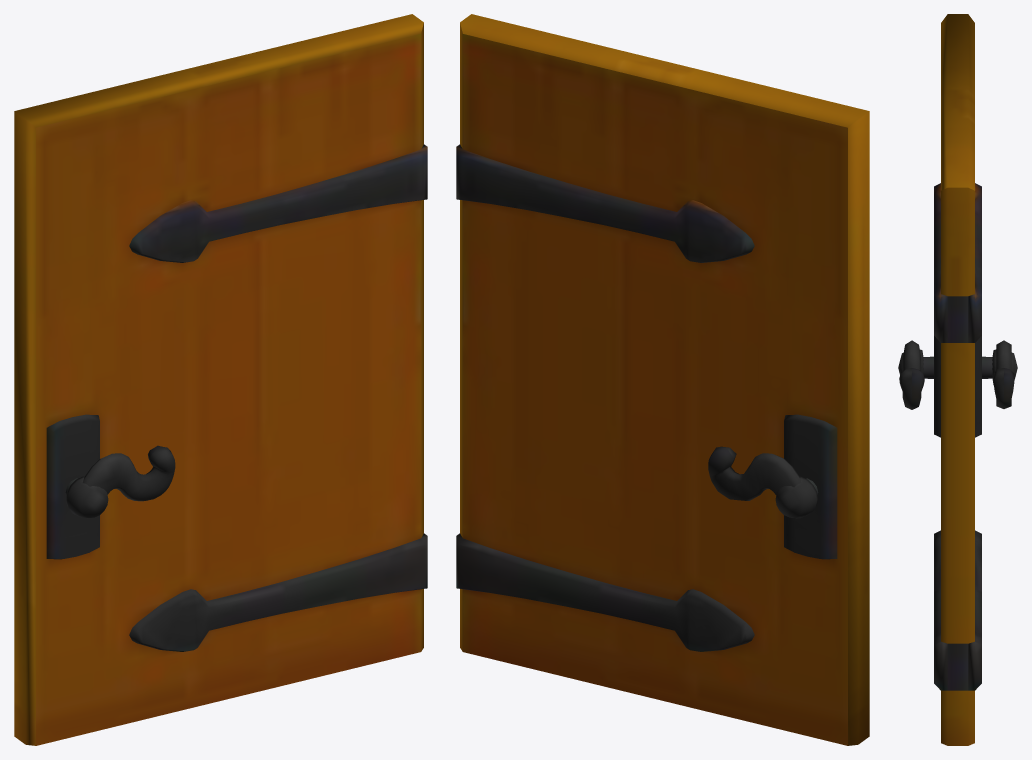
Rendered from door-ironparts-s.glb.
3 views of the same model, side by side, from view 1: azimuth 30°, elevation 25°; view 2: azimuth 150°, elevation 25°; view 3: azimuth 270°, elevation 25° (orthographic). The views are drawn at different scales.
Size of the model in its own units: 12 by 18 by 3.5.
1 material, 1 textured.
